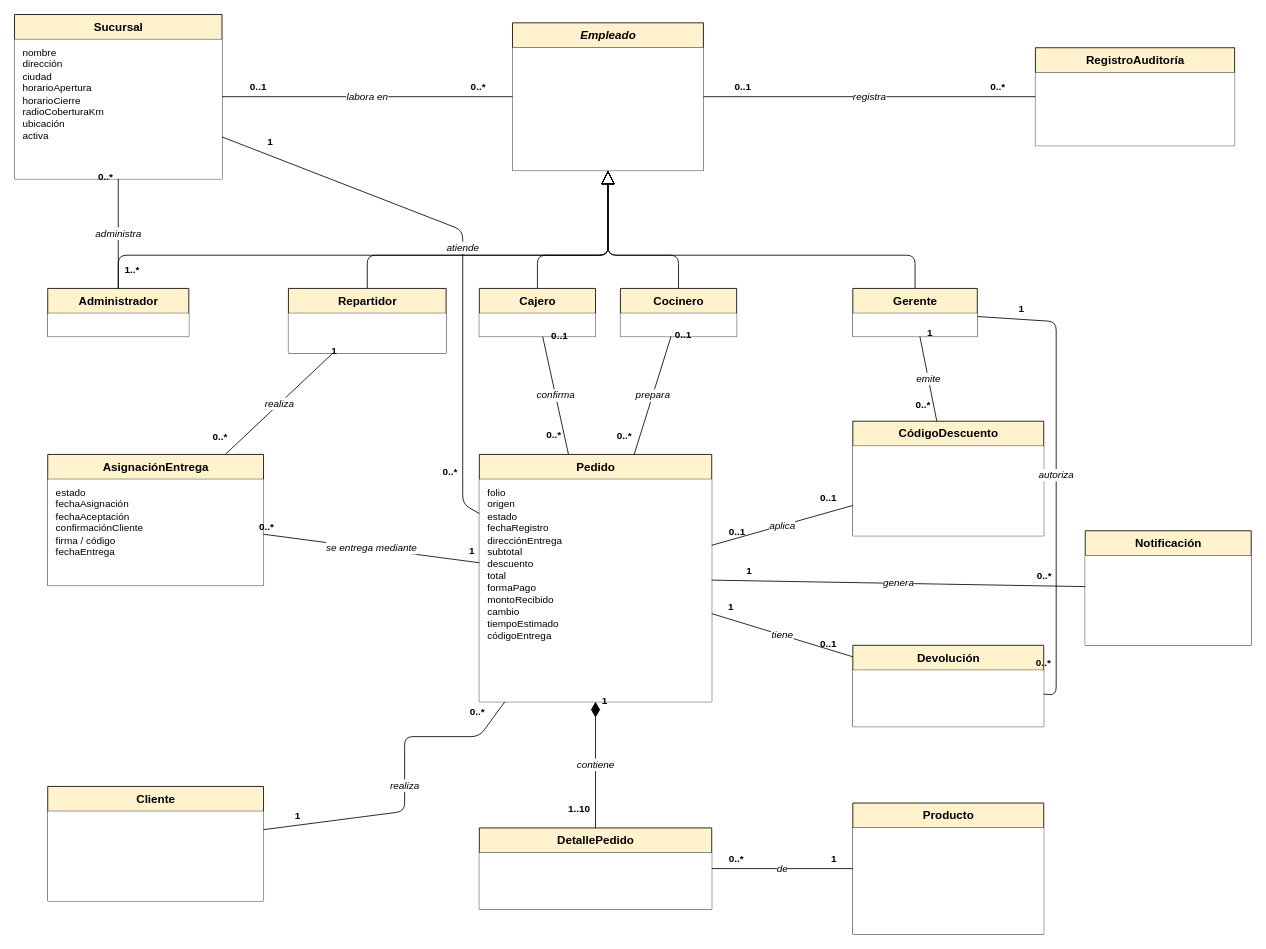
Some shapes in this 1266 by 949 pixel diagram are drawn without their labels. The centre of each missing label's shape, as x and y in pixels:
"acción entidad detalle fechaHora" goes at (x=1134, y=108).
"cantidad precioUnitario importe" goes at (x=595, y=880).
"código tipo valor vigencia usado" goes at (x=947, y=490).
"disponible ubicaciónActual" goes at (x=367, y=333).
"motivo acciónCorrectiva fecha" goes at (x=947, y=698).
"nombre apellidos teléfono puesto usuario bloqueado activo" goes at (x=607, y=108).
"nombre categoría tamaño precio disponible códigoQR" goes at (x=947, y=881).
"nombre teléfono dirección ubicación tieneCuenta" goes at (x=155, y=856).
"tipoEvento mensaje canal fecha leída" goes at (x=1168, y=600).
